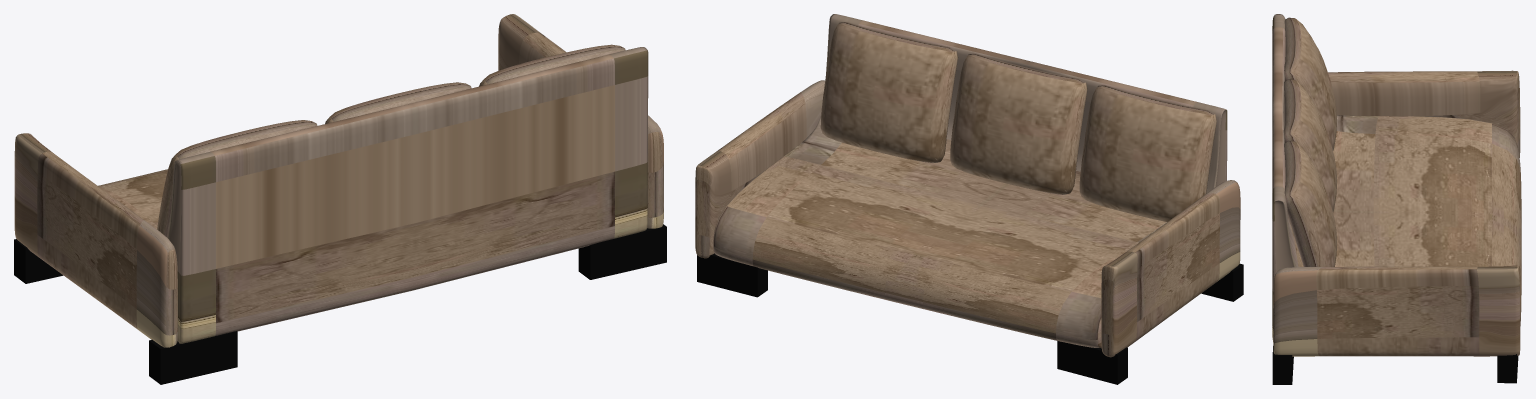
File: Vieze bank.fbx
3 views of the same model, side by side, from view 1: azimuth 30°, elevation 25°; view 2: azimuth 150°, elevation 25°; view 3: azimuth 270°, elevation 25° (orthographic). The views are drawn at different scales.
Parts seen in each view (by area): view 1: Cube, Cube.002, Cube.001; view 2: Cube, Cube.001, Cube.002; view 3: Cube, Cube.001, Cube.002.
Part boxes in pixels (left/top/right/bottom): Cube: left=14, top=14, right=663, bottom=347; Cube.002: left=14, top=224, right=666, bottom=384; Cube.001: left=157, top=44, right=625, bottom=237; Cube: left=695, top=14, right=1240, bottom=357; Cube.001: left=820, top=22, right=1216, bottom=221; Cube.002: left=697, top=253, right=1243, bottom=384; Cube: left=1272, top=14, right=1521, bottom=356; Cube.001: left=1283, top=17, right=1336, bottom=266; Cube.002: left=1272, top=345, right=1518, bottom=384.
Bounding box in the file's own units: 345 × 142 × 180.
